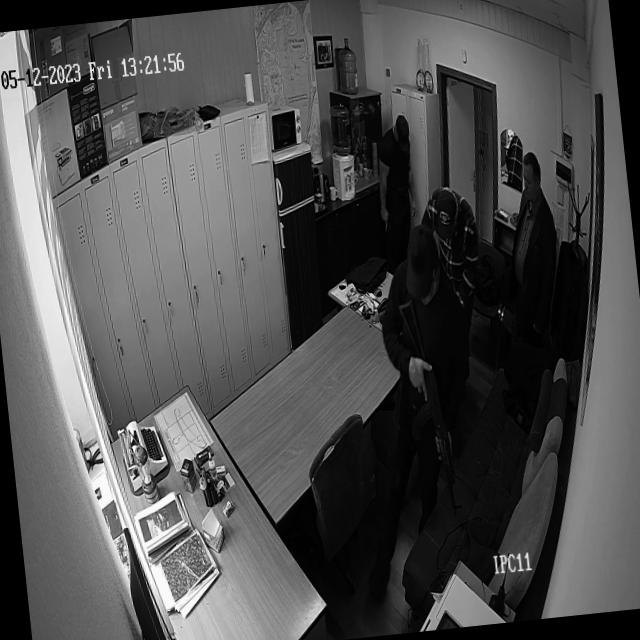gun: (398, 293, 488, 559)
person: (504, 147, 572, 380), (424, 159, 496, 336), (374, 114, 422, 253)
person with a gun: (372, 212, 488, 520)
